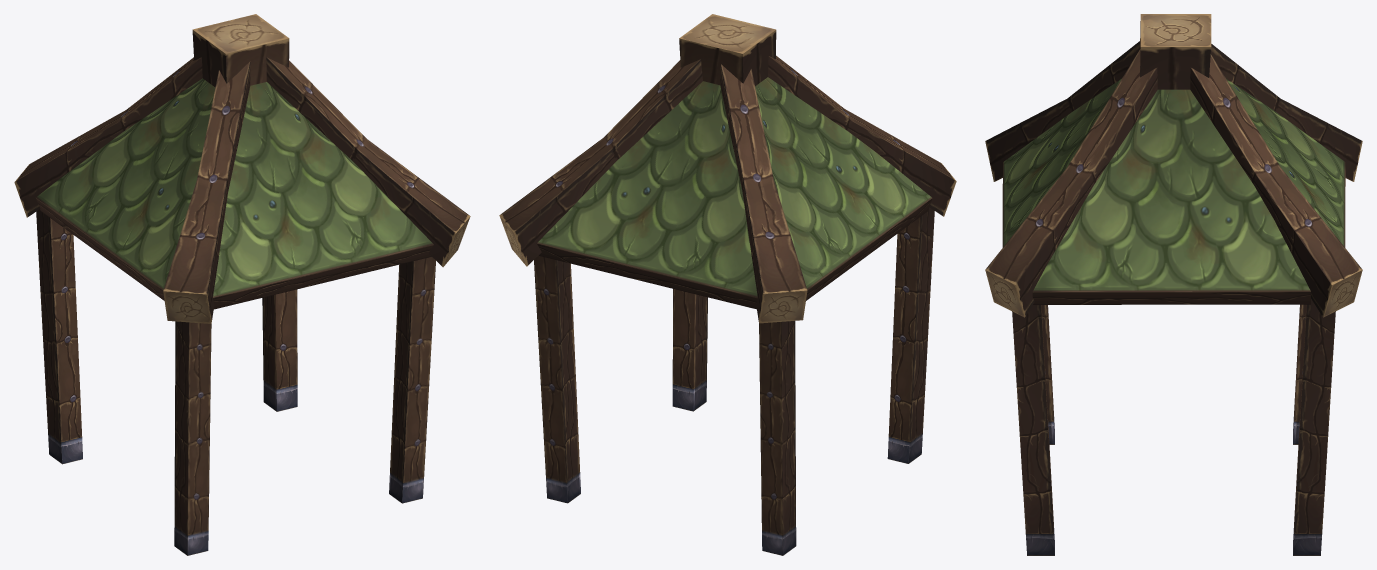
Rendered from small_roof_02.fbx.
3 renders of one model, left to right at view 1: azimuth 30°, elevation 25°; view 2: azimuth 150°, elevation 25°; view 3: azimuth 270°, elevation 25°, orthographic. The views are drawn at different scales.
Parts seen in each view (by area): view 1: small_roof_02; view 2: small_roof_02; view 3: small_roof_02.
Part boxes in pixels (x1,y1,x2,y2): small_roof_02: (14,14,470,555); small_roof_02: (499,14,956,555); small_roof_02: (985,14,1362,555).
Size of the model in its own units: 8.99 by 12.31 by 9.01.
